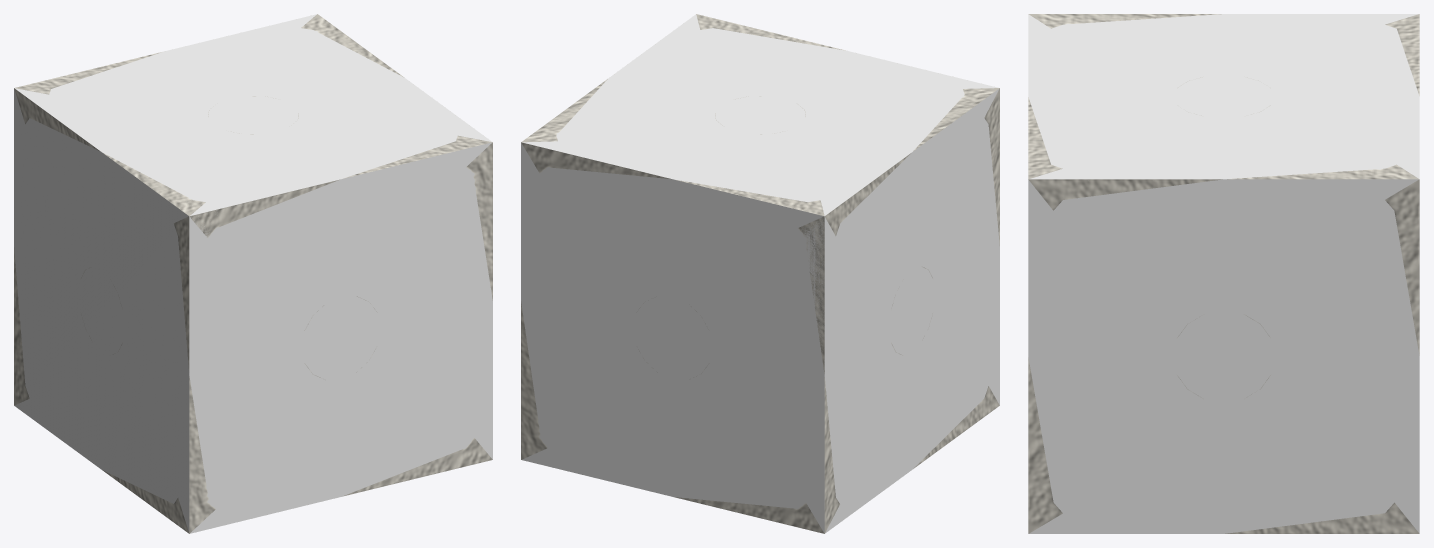
3 renders of one model, left to right at view 1: azimuth 30°, elevation 25°; view 2: azimuth 150°, elevation 25°; view 3: azimuth 270°, elevation 25°, orthographic. The views are drawn at different scales.
Visible parts, largest first — view 1: object3baseaura2, object3baseaura5, object3baseaura1, object3detail; view 2: object3baseaura4, object3baseaura5, object3baseaura1, object3detail; view 3: object3baseaura3, object3baseaura1, object3detail.
Part boxes in pixels (x1,y1,x2,y2): object3baseaura2: (189,142,492,533); object3baseaura5: (14,88,189,532); object3baseaura1: (15,14,491,215); object3detail: (14,14,492,533); object3baseaura4: (521,143,824,533); object3baseaura5: (824,88,999,533); object3baseaura1: (522,14,998,215); object3detail: (521,14,999,533); object3baseaura3: (1028,179,1419,533); object3baseaura1: (1028,14,1419,179); object3detail: (1028,14,1419,533).
Size of the model in its own units: 13.74 by 13.74 by 13.74.
Materials: 6 (6 with a texture image).
